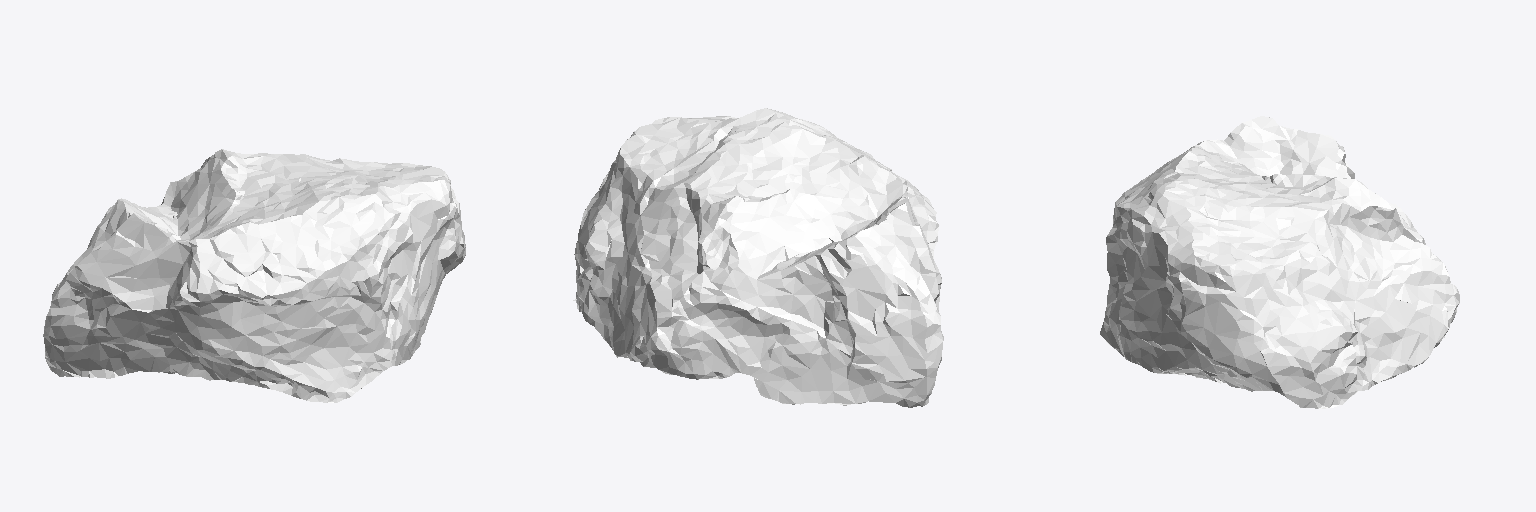
File: rock_02.obj
3 views of the same model, side by side, from view 1: azimuth 30°, elevation 25°; view 2: azimuth 150°, elevation 25°; view 3: azimuth 270°, elevation 25° (orthographic).
Parts seen in each view (by area): view 1: rock_Decimate_rock_1mil.004; view 2: rock_Decimate_rock_1mil.004; view 3: rock_Decimate_rock_1mil.004.
Part boxes in pixels (x1,y1,x2,y2): rock_Decimate_rock_1mil.004: (43,149,465,402); rock_Decimate_rock_1mil.004: (573,108,943,407); rock_Decimate_rock_1mil.004: (1100,116,1459,408).
Bounding box in the file's own units: 10.15 × 4.54 × 8.22.